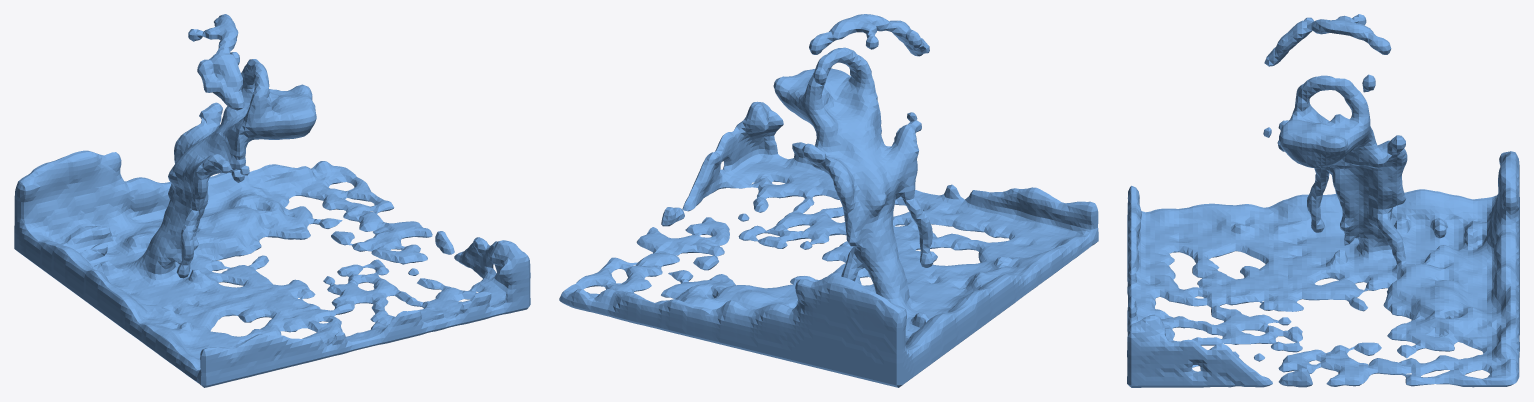
The model's file is water_0067.glb.
3 renders of one model, left to right at view 1: azimuth 30°, elevation 25°; view 2: azimuth 150°, elevation 25°; view 3: azimuth 270°, elevation 25°, orthographic. The views are drawn at different scales.
Visible parts, largest first — view 1: Water_0067; view 2: Water_0067; view 3: Water_0067.
Part boxes in pixels (bbox=[...]): Water_0067: bbox=[14, 14, 530, 387]; Water_0067: bbox=[559, 14, 1098, 387]; Water_0067: bbox=[1127, 14, 1519, 387].
Bounding box in the file's own units: 4.83 × 3.63 × 4.83.
